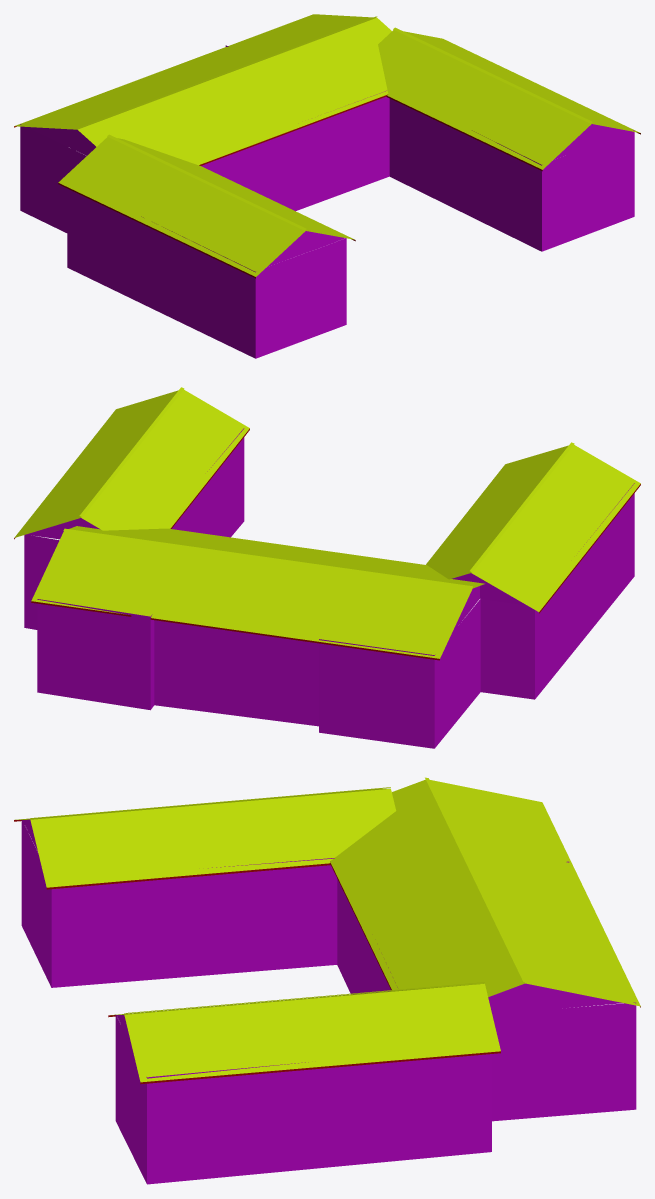
Rendered from scl_60.glb.
3 renders of one model, top to bottom at view 1: azimuth 30°, elevation 25°; view 2: azimuth 150°, elevation 25°; view 3: azimuth 270°, elevation 25°, orthographic. The views are drawn at different scales.
Visible parts, largest first — view 1: scl_60; view 2: scl_60; view 3: scl_60.
Boxes of the visible parts, bbox=[...] form: scl_60: bbox=[14, 14, 640, 358]; scl_60: bbox=[14, 387, 640, 748]; scl_60: bbox=[14, 777, 640, 1184].
Size of the model in its own units: 40.4 by 9 by 36.48.
